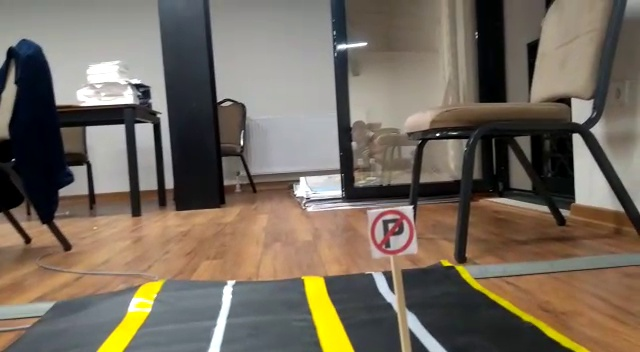park_yapilmaz: (367, 206, 417, 255)
